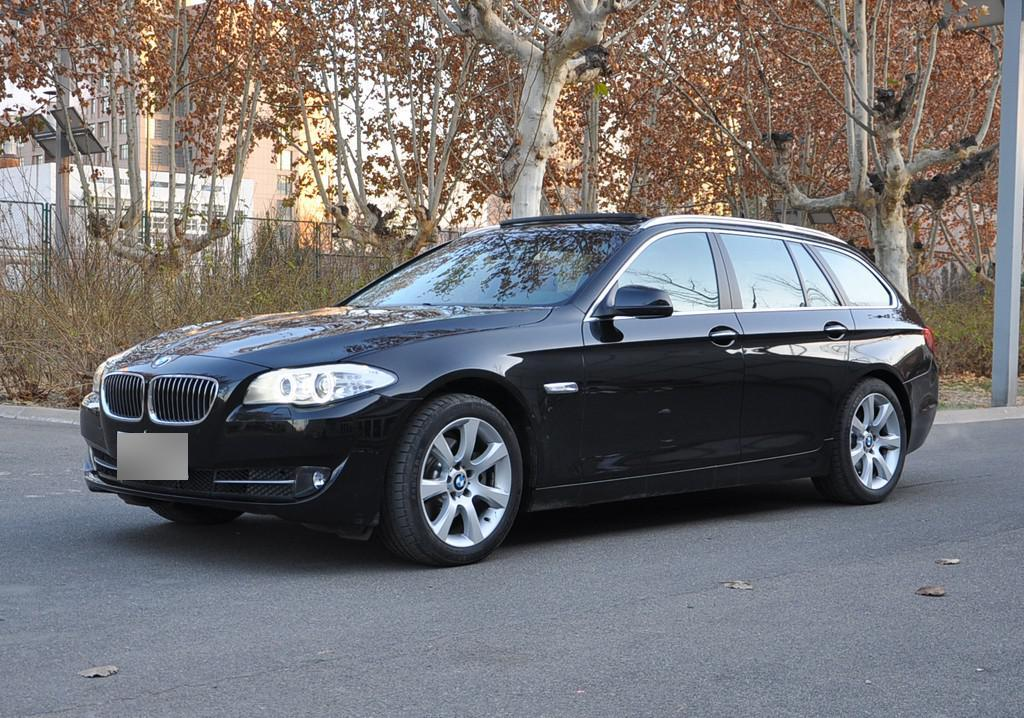Wagon: (77, 211, 941, 570)
